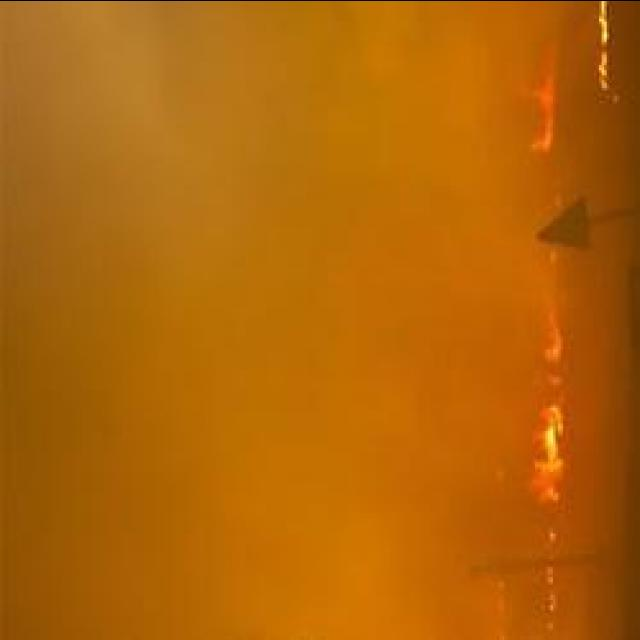fire: (526, 403, 576, 504), (526, 75, 560, 162)
